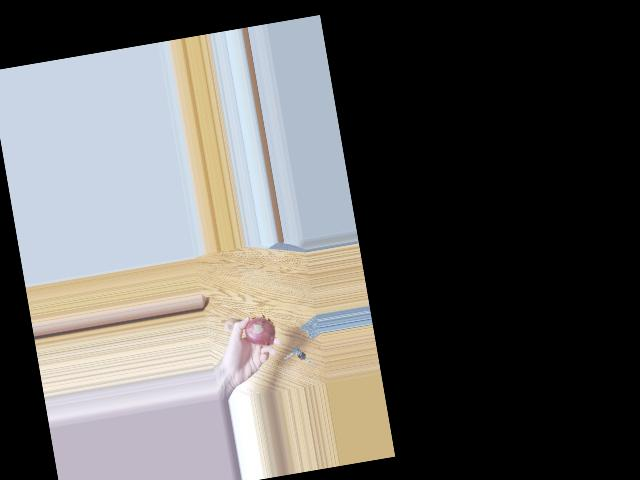onion: (217, 316, 239, 338)
